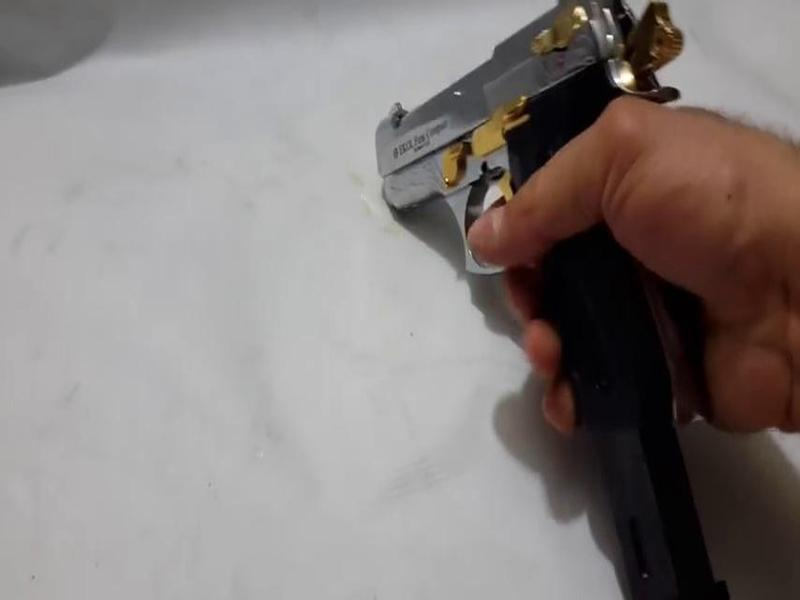Pistola: (364, 1, 720, 422)
